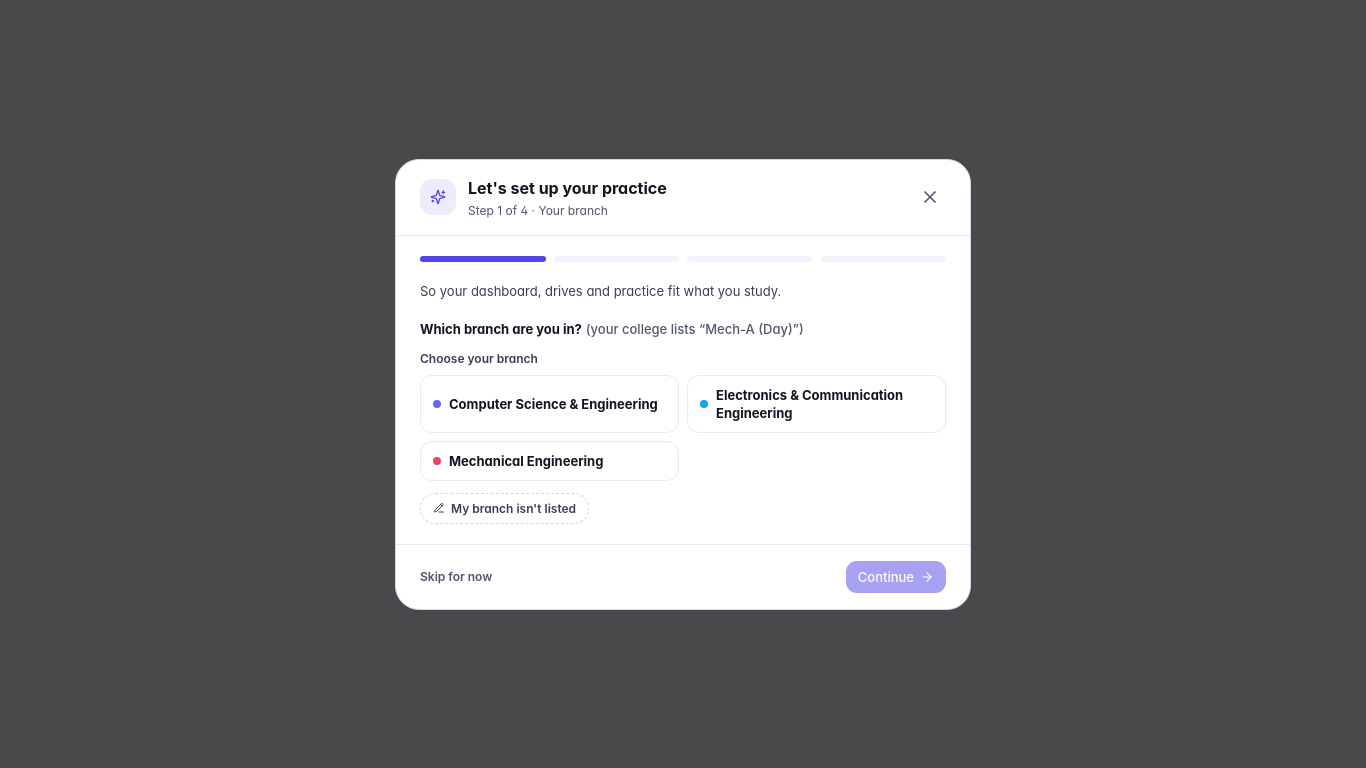
it: a branch that is not on the list › starts from the label the college gave us when we could not read it
Click the button "My branch isn't listed": (505, 508) left=420, top=492, right=589, bottom=524
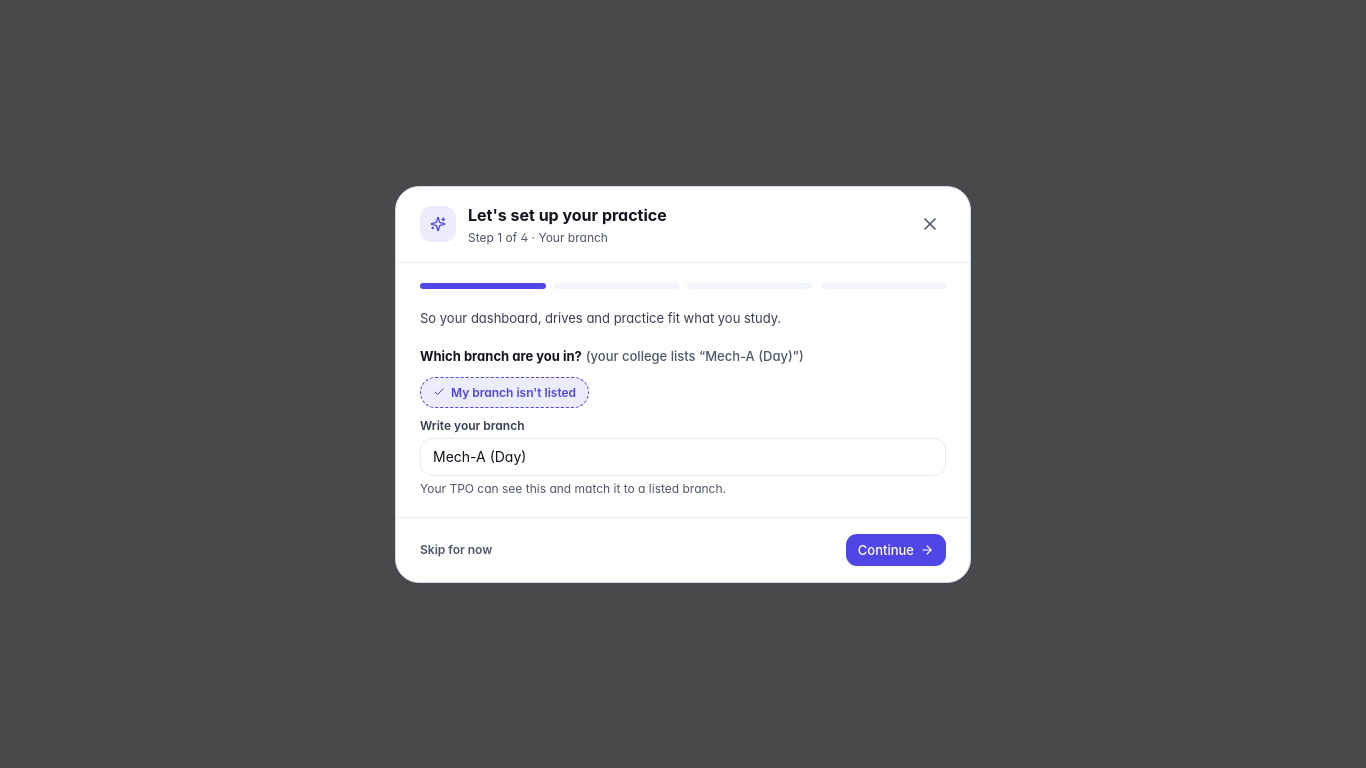
Result: the field with placeholder "e.g. Biomedical Engineering" holds "Mech-A (Day)" at left=420, top=438, right=946, bottom=476
Result: the button "Continue" is enabled at left=846, top=534, right=946, bottom=566
